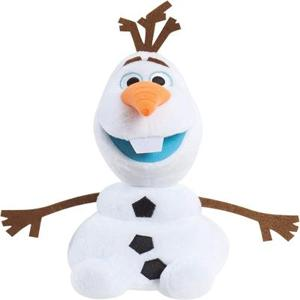olaf: (62, 9, 254, 293)
